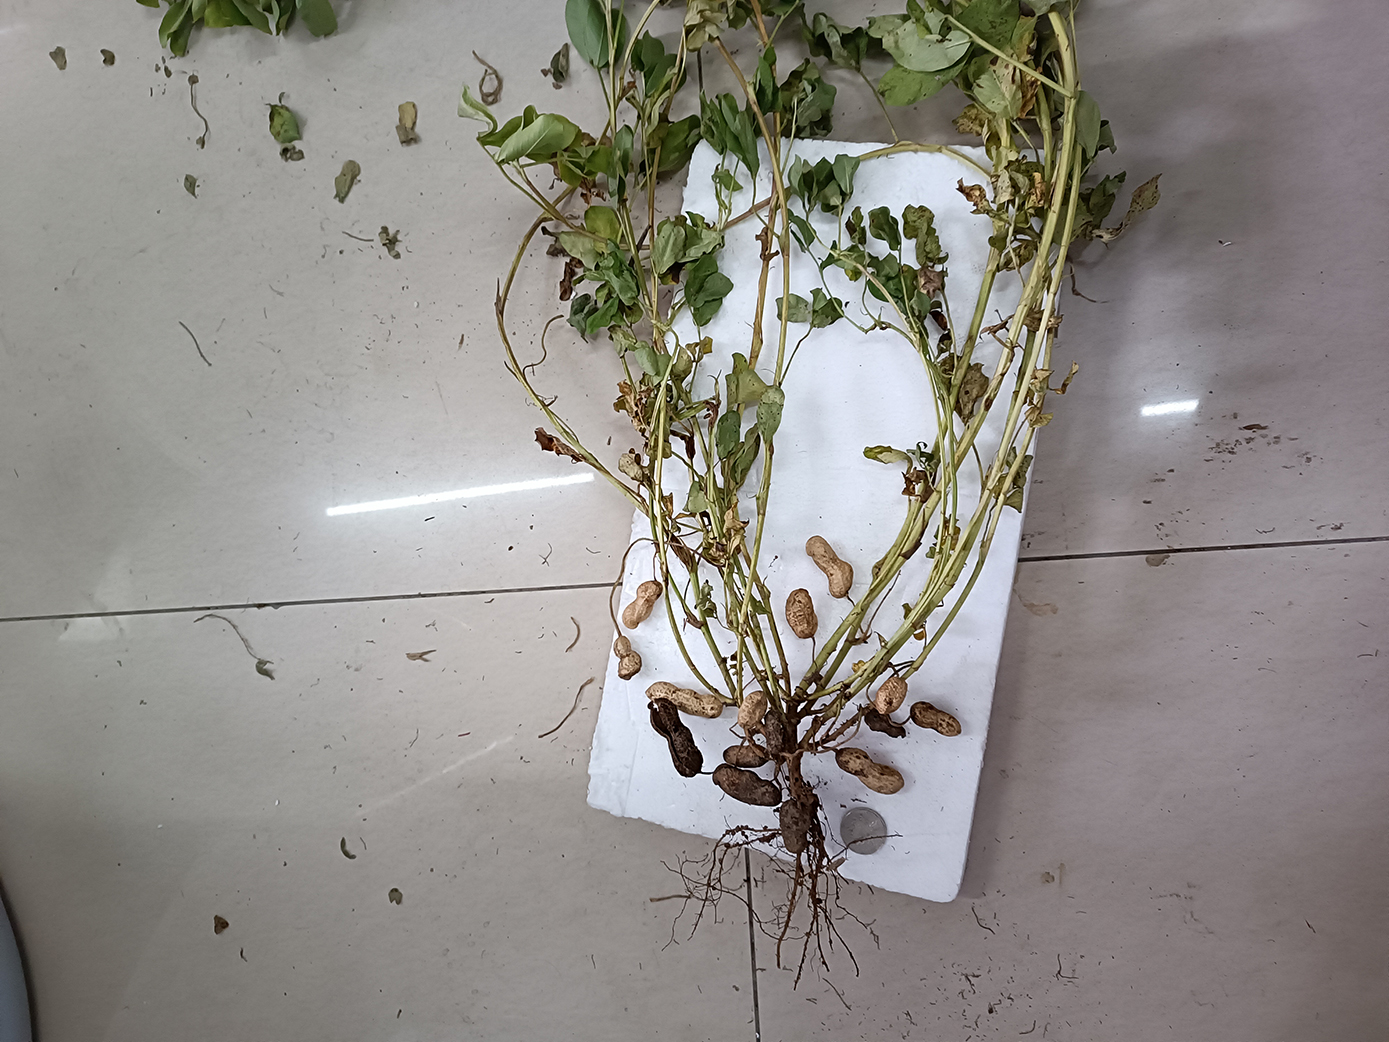h: (836, 746, 905, 794), (645, 679, 722, 720), (806, 536, 854, 599), (620, 580, 662, 630), (785, 589, 818, 639), (613, 637, 643, 680), (736, 688, 768, 727), (876, 678, 906, 713)
l: (647, 701, 705, 779), (713, 766, 782, 808), (910, 702, 962, 737), (863, 711, 908, 741), (779, 802, 806, 853), (722, 744, 771, 768)
